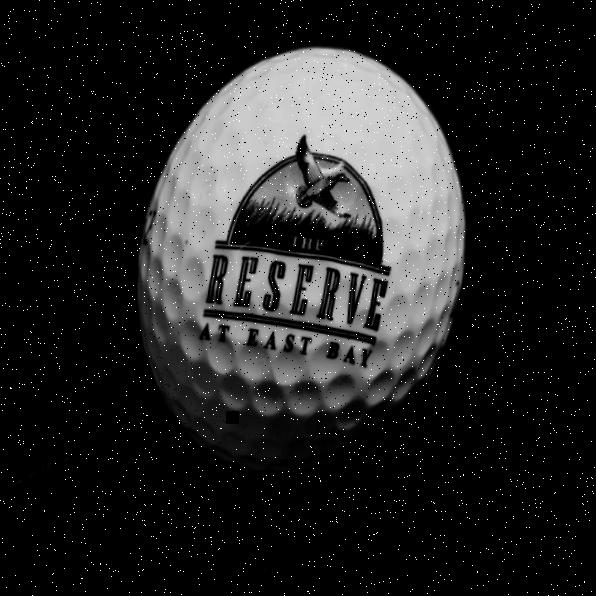GolfBall: (80, 11, 528, 506)
